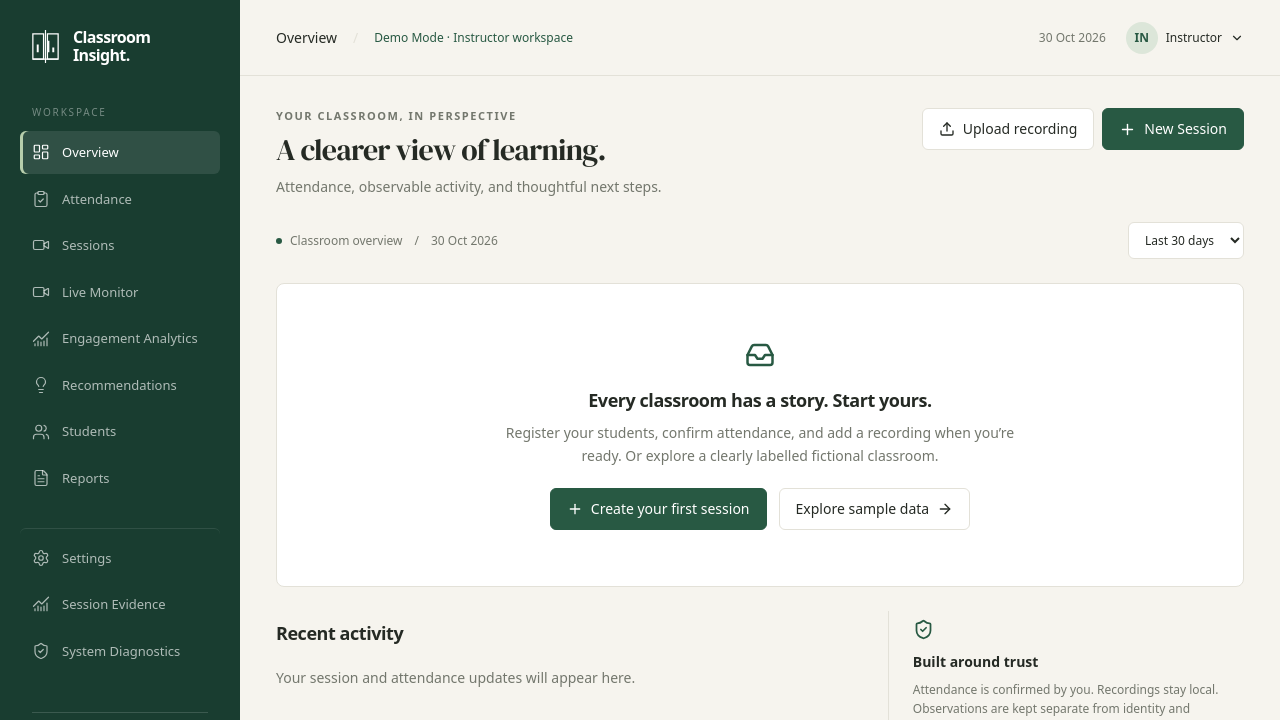
navigation opens Engagement Analytics
The width and height of the screenshot is (1280, 720).
Expected: the heading "A clearer view of learning." is shown, [276, 132, 662, 168]
Click the link "Engagement Analytics" at (115, 338), box [32, 329, 198, 348]
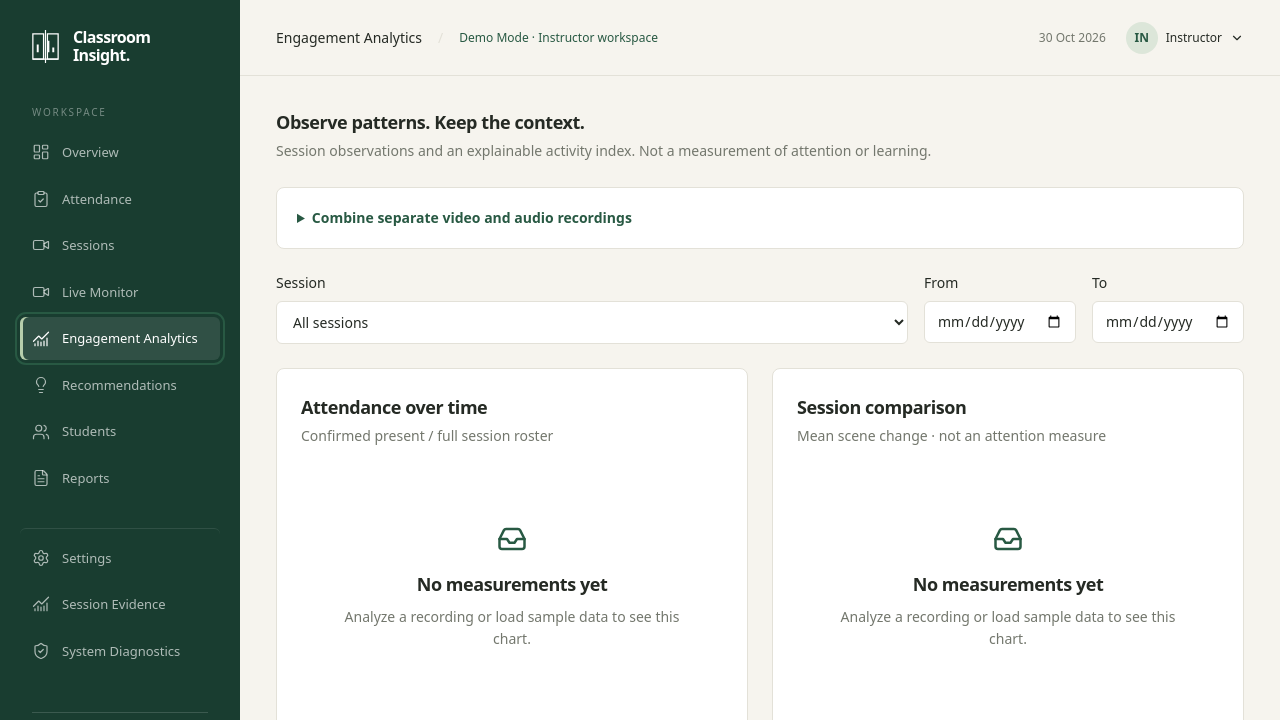
Now the heading "Observe patterns. Keep the context." is shown, box [276, 110, 584, 134]
